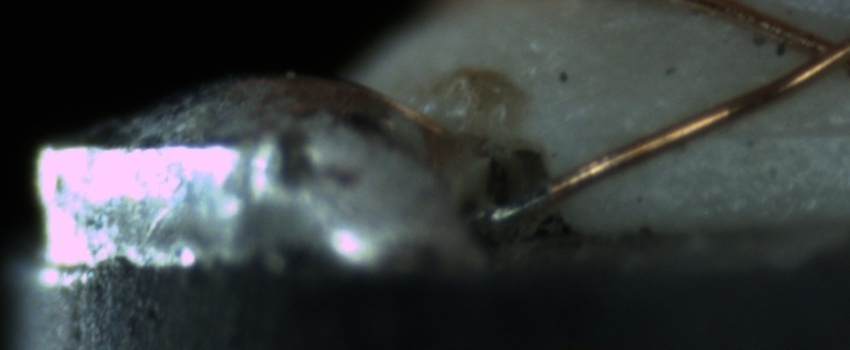CL: (768, 9, 850, 89)
DL: (683, 98, 848, 162)
TS: (476, 181, 554, 227)
TTCW: (476, 174, 559, 227)
